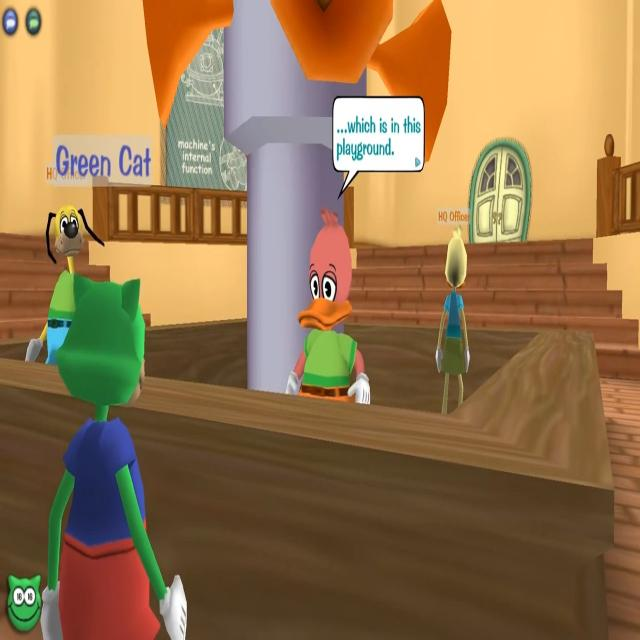npc: (285, 188, 374, 420), (24, 158, 92, 373), (431, 203, 474, 420)
